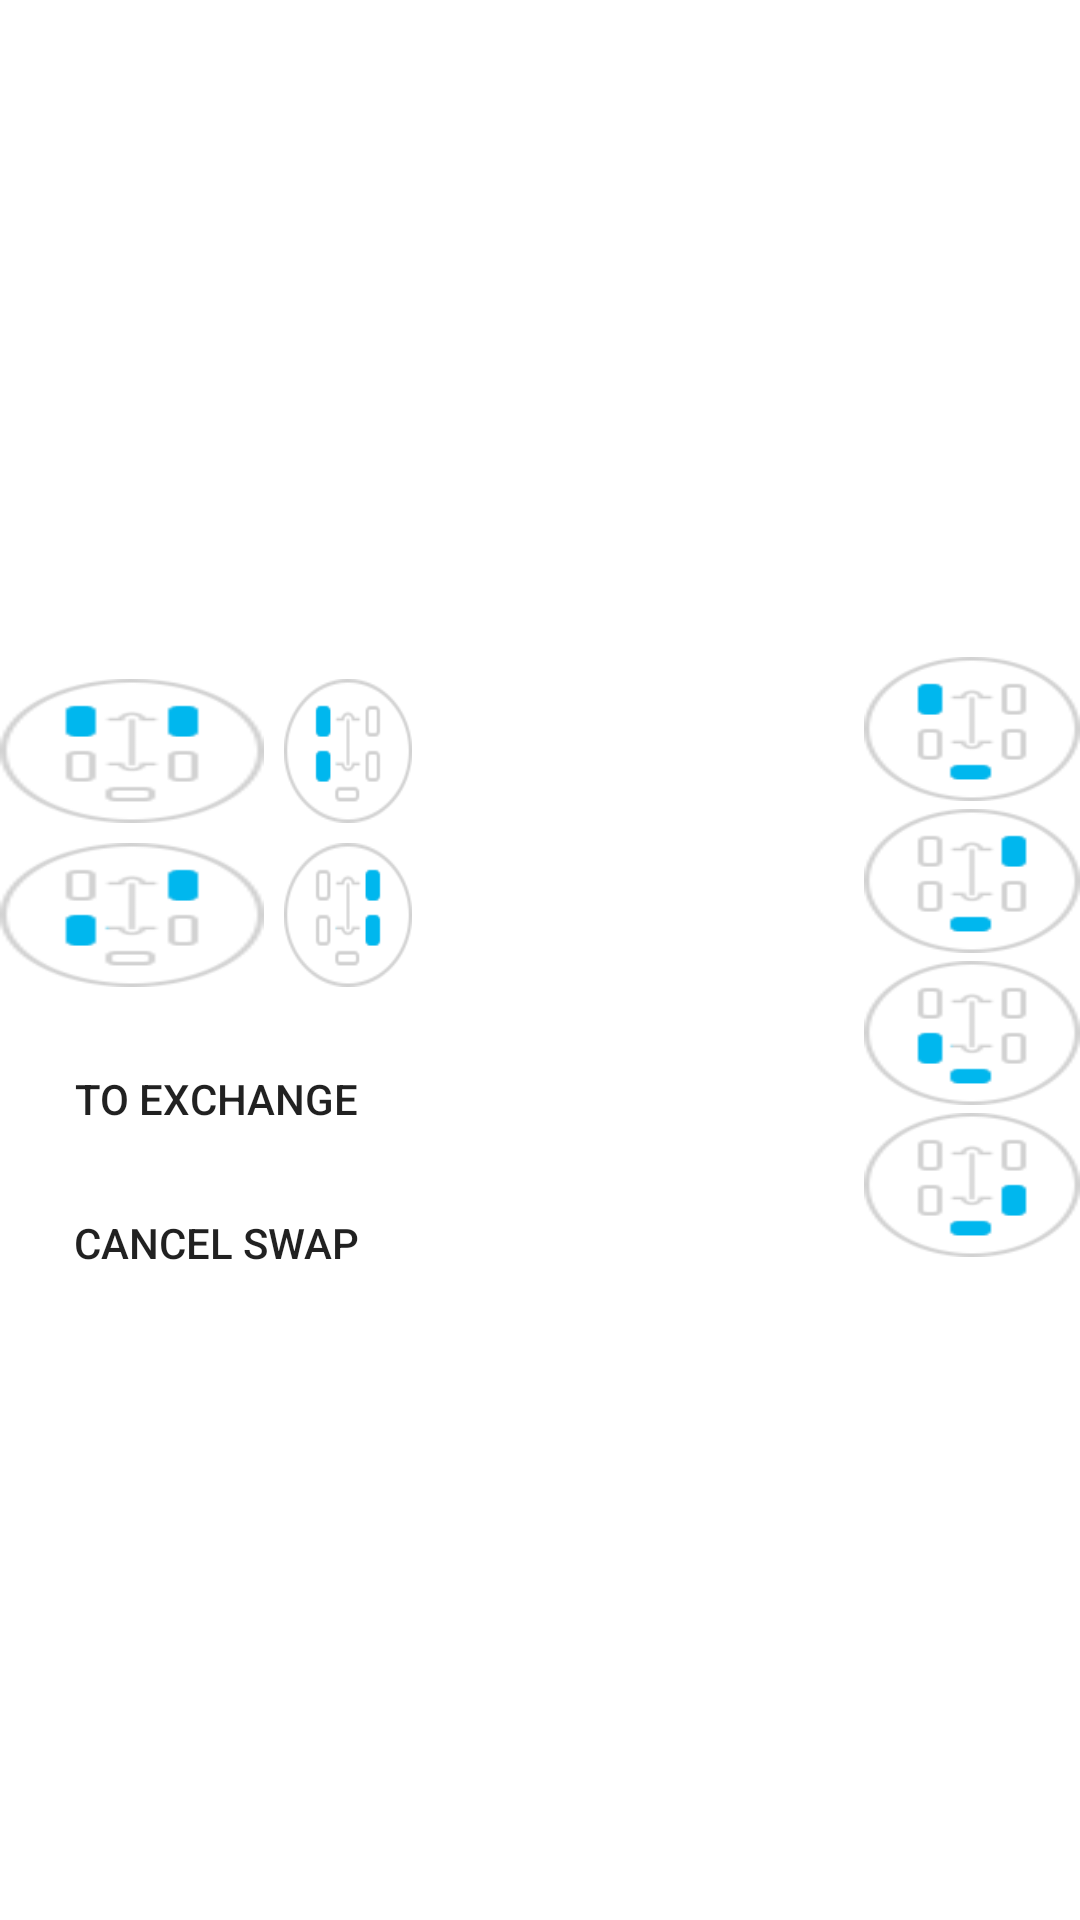

Where to tap for icons on this 1080 × 1920 app screen, as (x,y):
FL and FR exchange: (132,751)
FL and RL exchange: (348,751)
FL and Spare tire exchange: (972,729)
FR and RL exchange: (132,915)
FR and RR exchange: (348,915)
FR and Spare tire exchange: (972,881)
RL and Spare tire exchange: (972,1033)
RR and Spare tire exchange: (972,1185)
